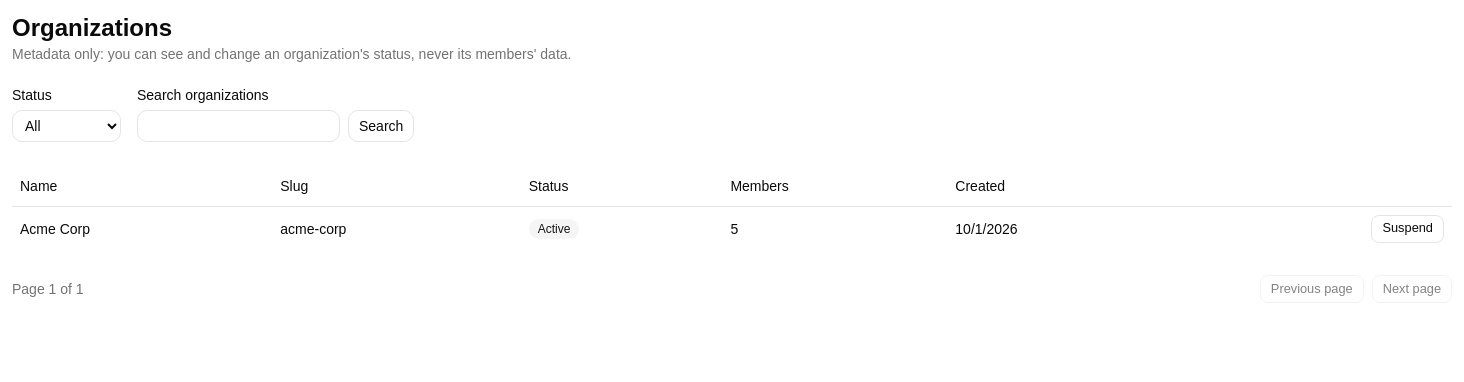
Test case: PlatformOrganizationsPage › suspends with a reason chosen from the suspension list, after a confirmation step
Click the button with aria-label "Suspend Acme Corp": {"x": 1408, "y": 228} 1372,214 -> 1444,242
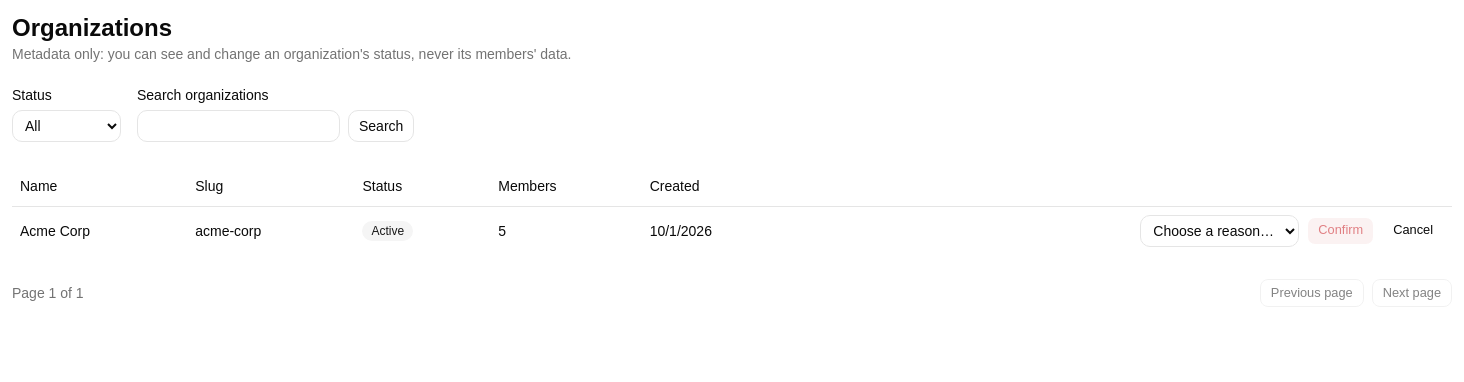
expect the button with aria-label "Confirm suspension of Acme Corp" is disabled: met, box 1307,216 -> 1374,244
Select "Non-payment" in the dropdown named "Reason for suspending Acme Corp": {"x": 1220, "y": 230} 1140,214 -> 1299,246
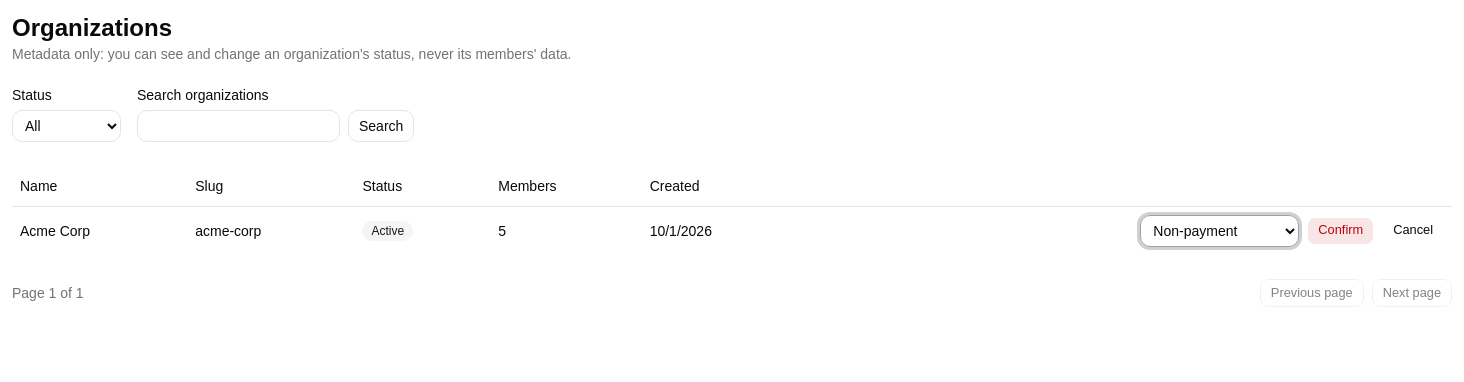
Click the button with aria-label "Confirm suspension of Acme Corp": {"x": 1341, "y": 230} 1307,216 -> 1374,244
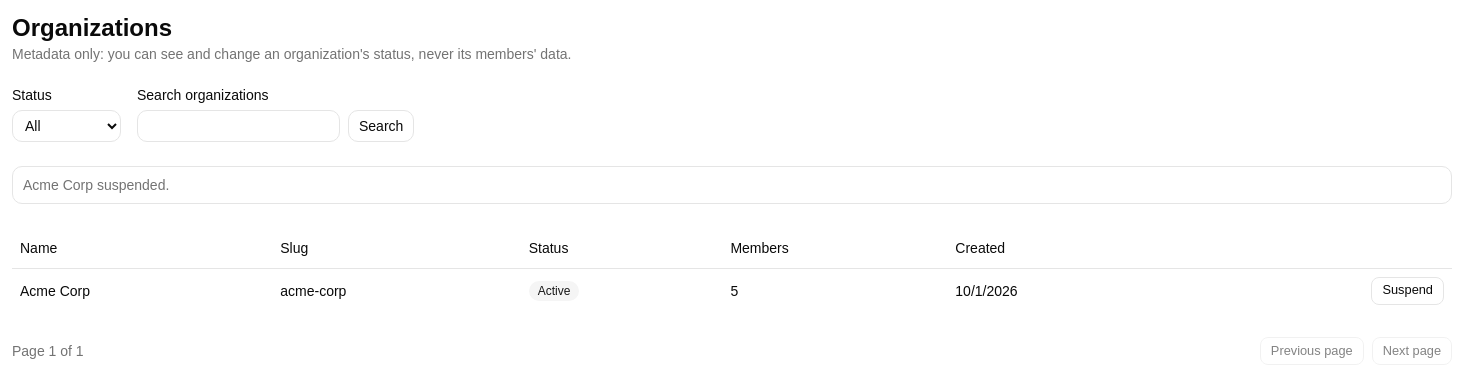
expect the text "Acme Corp suspended." is shown: met, box 23,177 -> 169,193
